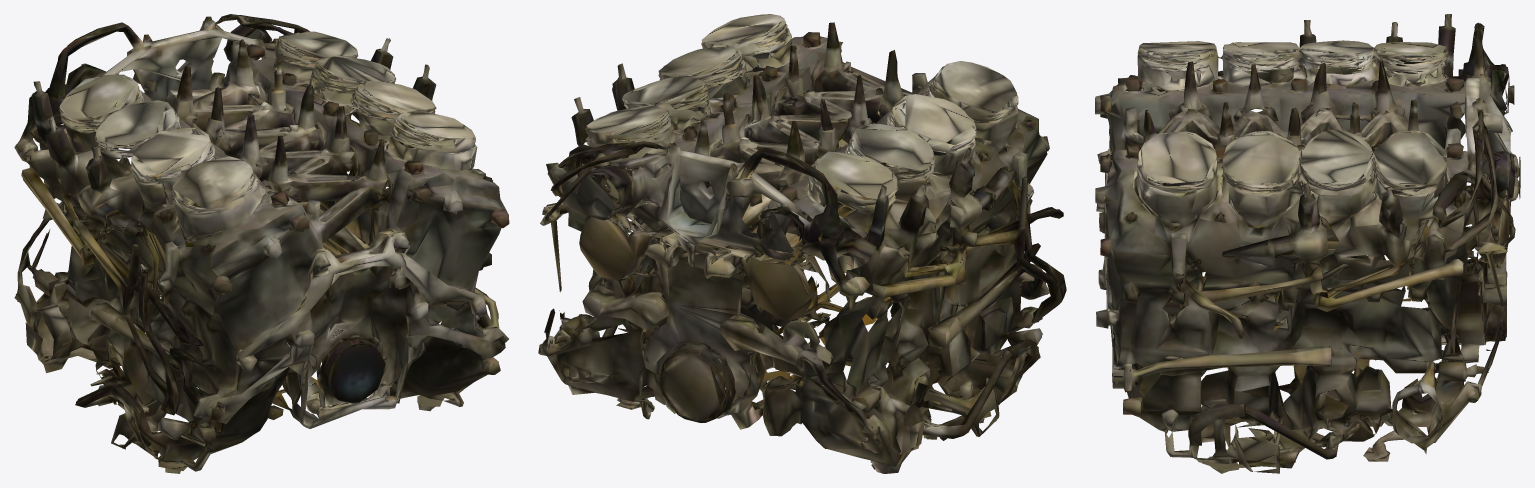
The model's file is motor.glb.
3 views of the same model, side by side, from view 1: azimuth 30°, elevation 25°; view 2: azimuth 150°, elevation 25°; view 3: azimuth 270°, elevation 25° (orthographic). The views are drawn at different scales.
Visible parts, largest first — view 1: geometry_0; view 2: geometry_0; view 3: geometry_0.
Part boxes in pixels (x1,y1,x2,y2): geometry_0: (14, 14, 509, 473); geometry_0: (538, 14, 1066, 473); geometry_0: (1095, 14, 1520, 473).
Bounding box in the file's own units: 0.9989 × 0.8854 × 0.9978.
Materials: 1 (1 with a texture image).
